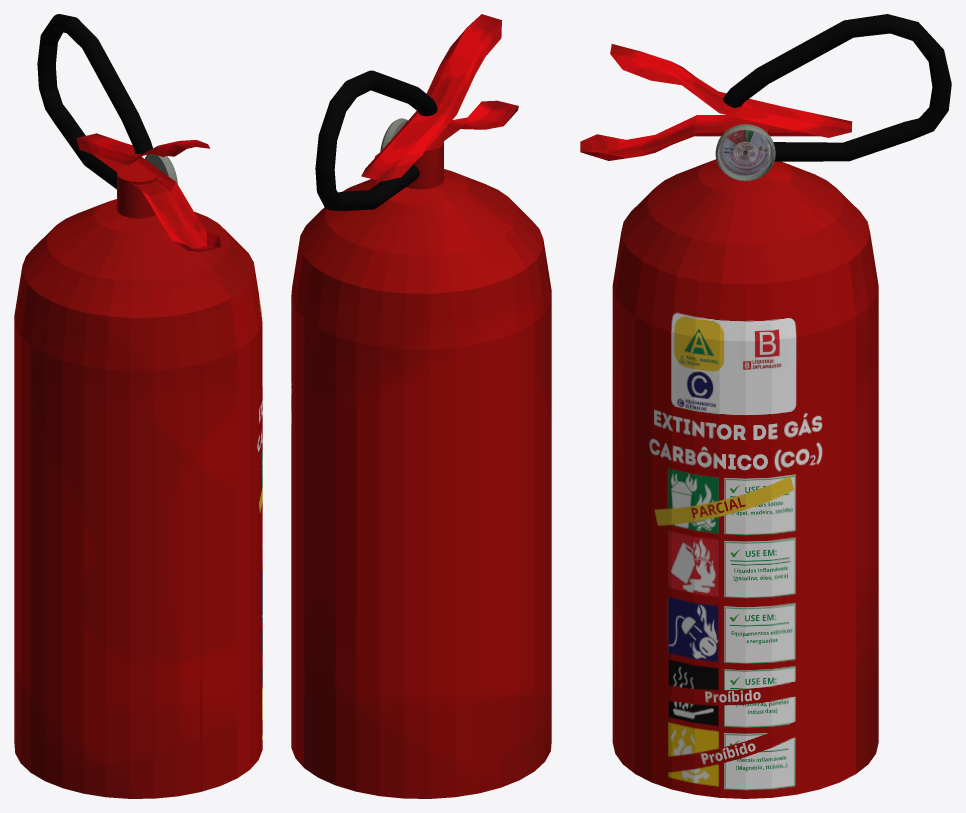
The model's file is ExtintorCo2.glb.
The picture shows the model from 3 angles, left to right: view 1: azimuth 30°, elevation 25°; view 2: azimuth 150°, elevation 25°; view 3: azimuth 270°, elevation 25°; orthographic projection. The views are drawn at different scales.
Visible parts, largest first — view 1: Círculo, Cilindro, Plano; view 2: Círculo, Plano, Cilindro; view 3: Círculo, Cilindro, Plano, Círculo.001.
Boxes of the visible parts, x1,y1,x2,y2 form: Círculo: (14, 164, 262, 798); Cilindro: (37, 14, 152, 189); Plano: (76, 133, 220, 252); Círculo: (291, 136, 551, 798); Plano: (361, 14, 518, 181); Cilindro: (315, 70, 437, 211); Círculo: (612, 121, 878, 798); Cilindro: (723, 14, 951, 161); Plano: (580, 44, 852, 160); Círculo.001: (715, 124, 775, 181).
Bounding box in the file's own units: 2 × 6.04 × 2.8.
6 materials, 4 textured.
